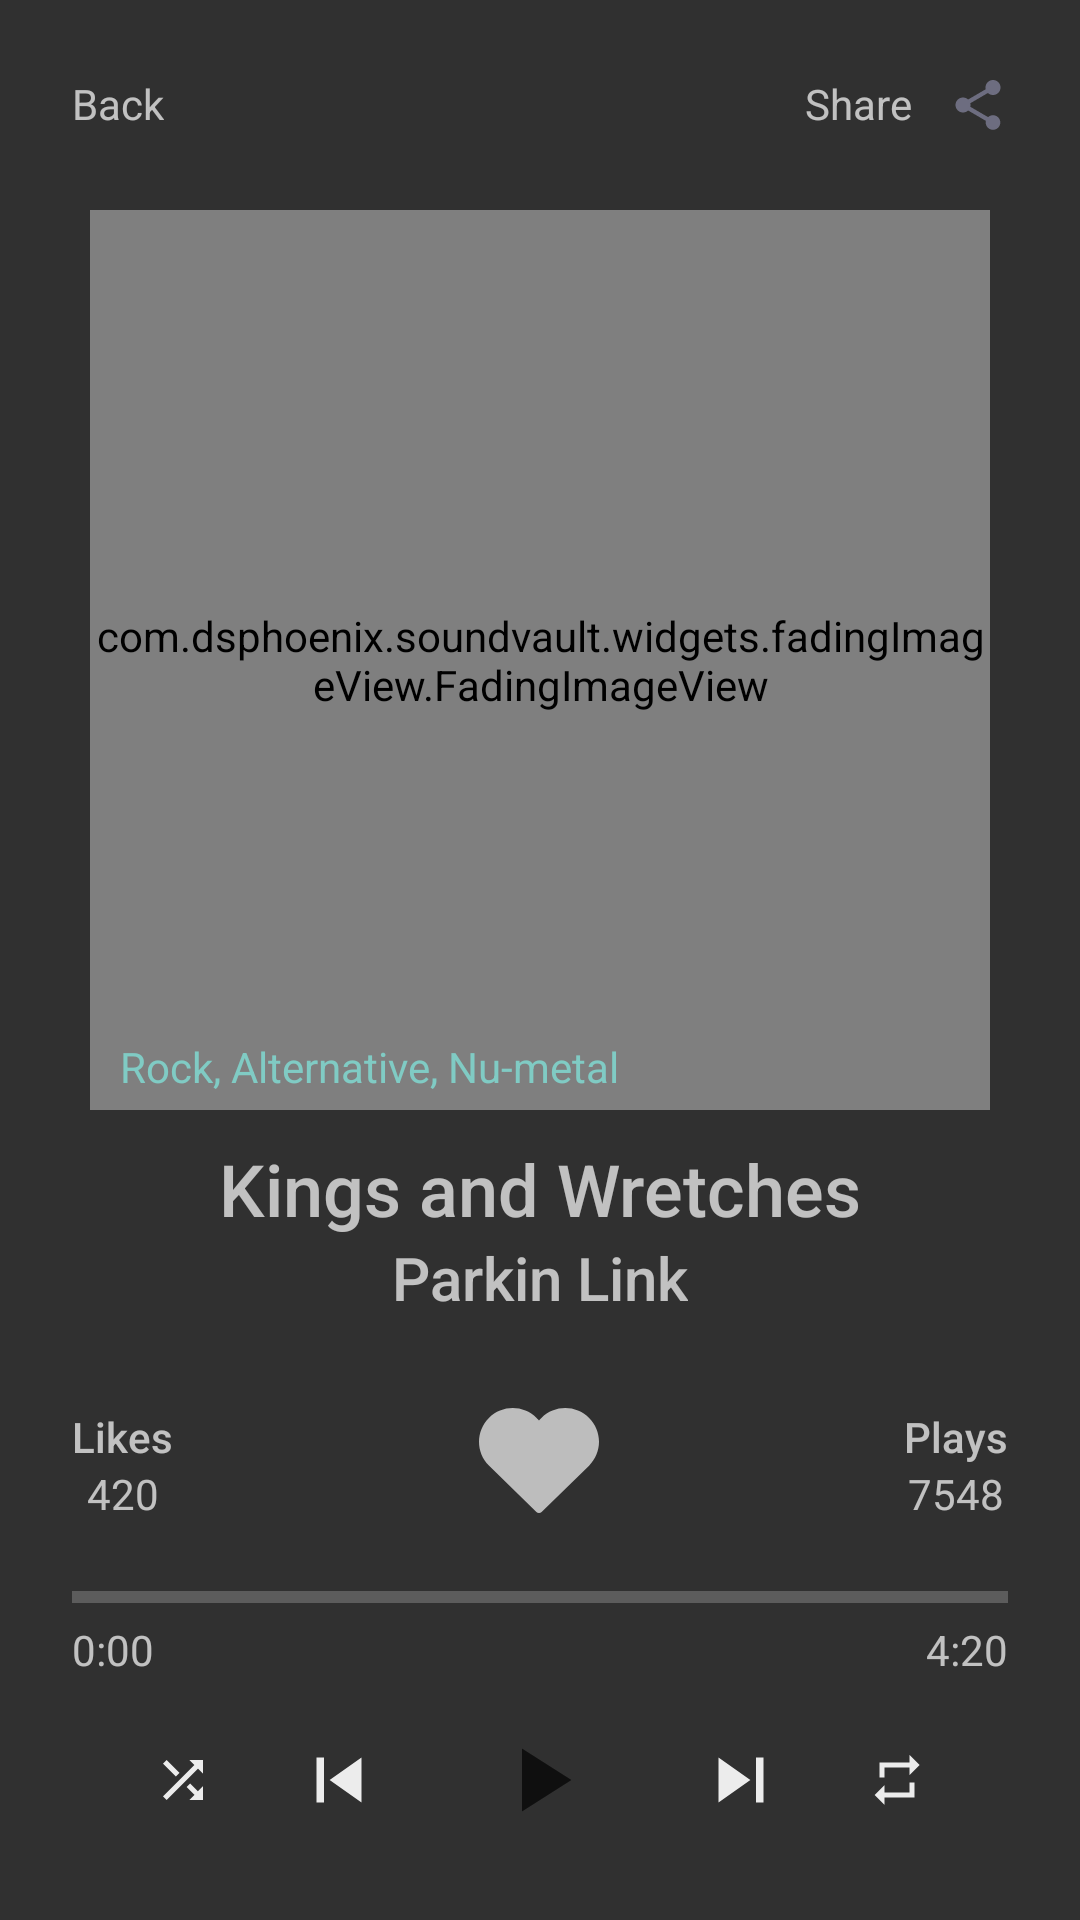

Screen size 1080 × 1920. Icon name, then its box in pixels as (x1, y1, x2, y2):
like: (479, 1408, 599, 1513)
next: (718, 1757, 764, 1803)
play: (522, 1749, 570, 1811)
previous: (316, 1757, 362, 1803)
repeat: (875, 1755, 920, 1805)
shuffle: (163, 1760, 203, 1800)
